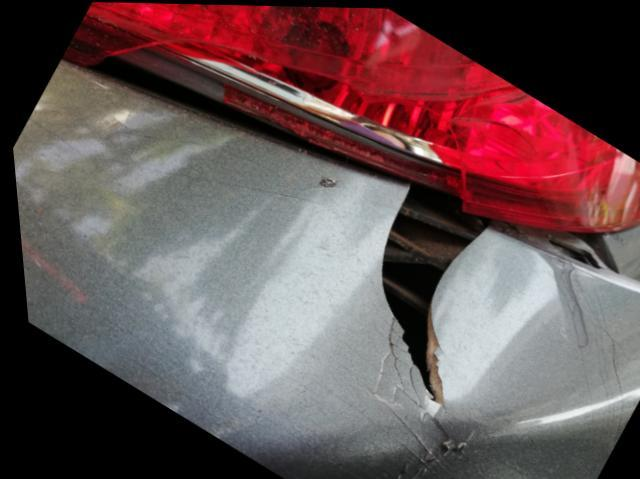crack: (374, 182, 486, 408)
lamp broken: (61, 2, 640, 230)
